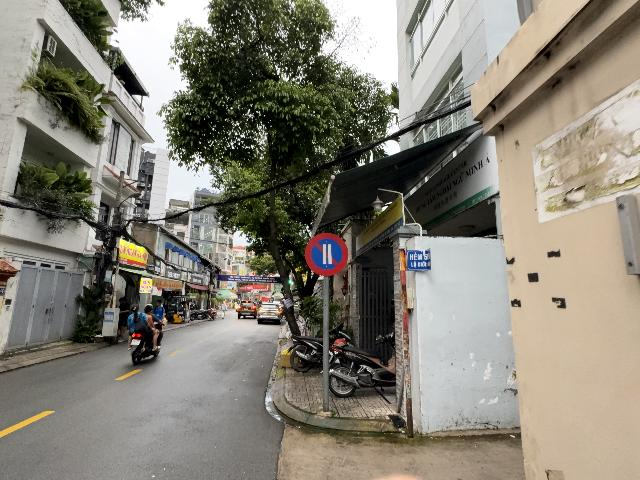cam-do-xe-ngay-chan: (305, 232, 348, 276)
